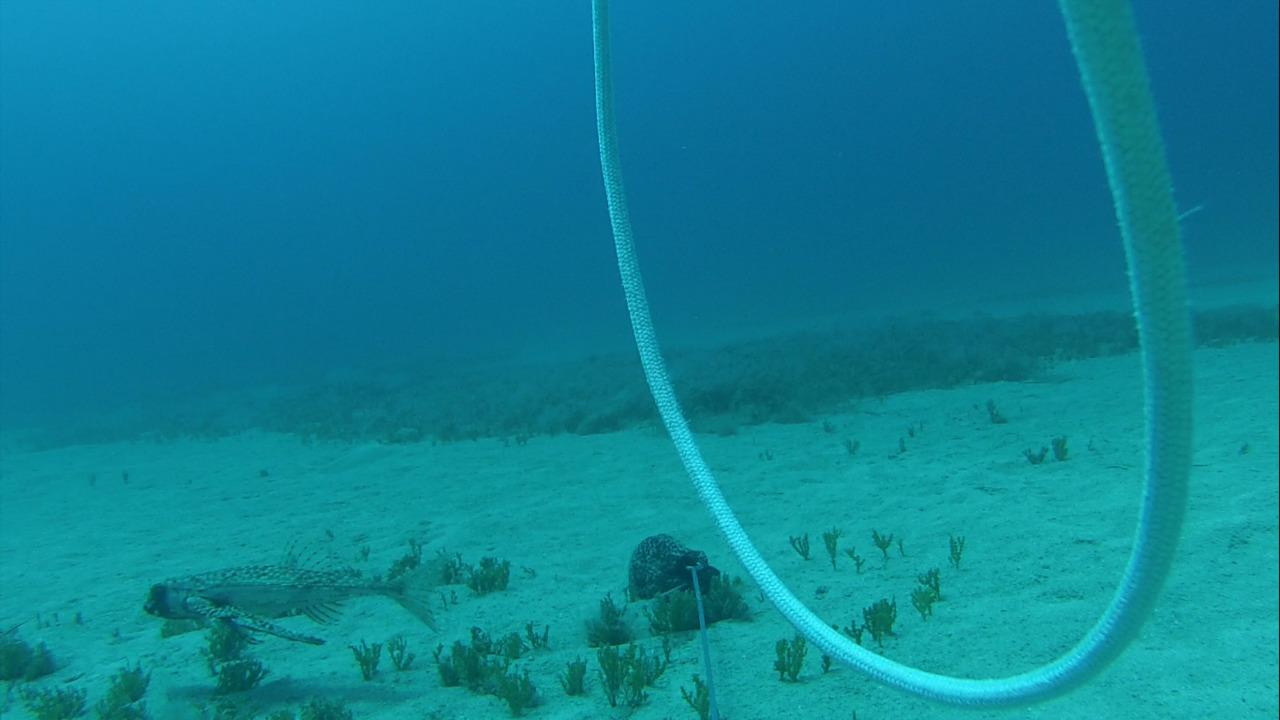dactylopterus: (133, 543, 436, 648)
